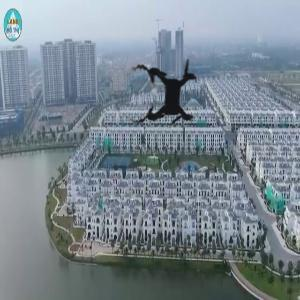drone: (100, 30, 235, 165)
